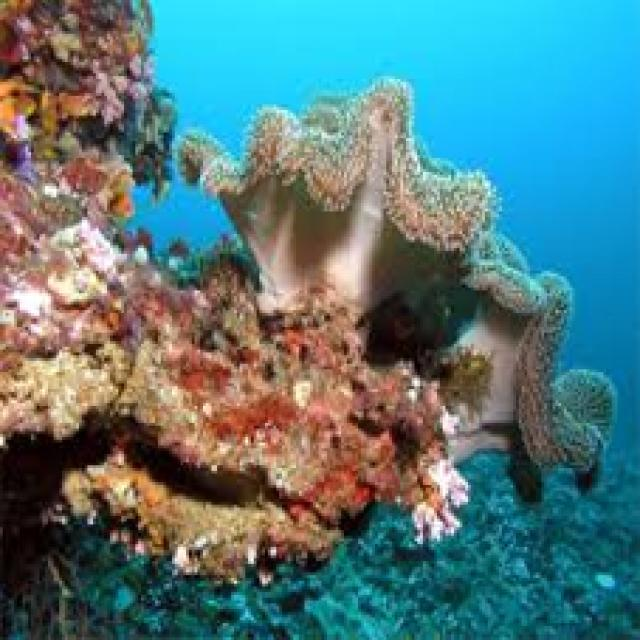Healthy: (1, 167, 401, 565), (184, 80, 492, 311), (441, 266, 616, 492)
